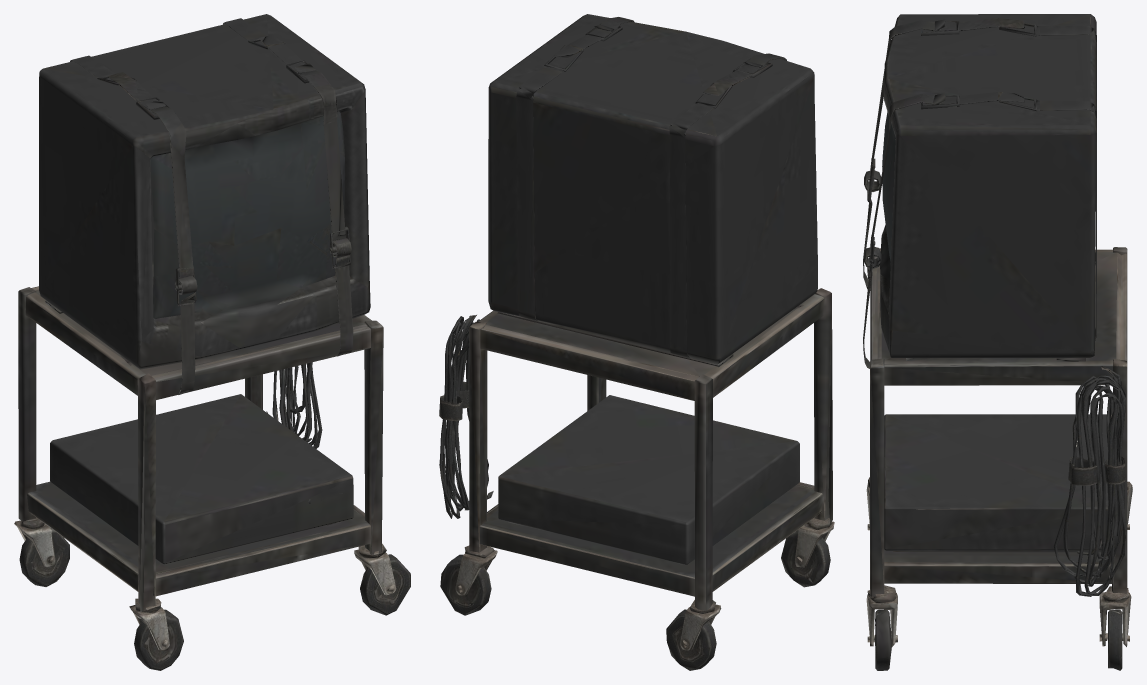
Rendered from p7-crt-tv-cart-t25.glb.
3 renders of one model, left to right at view 1: azimuth 30°, elevation 25°; view 2: azimuth 150°, elevation 25°; view 3: azimuth 270°, elevation 25°, orthographic.
Parts seen in each view (by area): view 1: p7-crt-tv-cart-t25; view 2: p7-crt-tv-cart-t25; view 3: p7-crt-tv-cart-t25.
Boxes of the visible parts, x1=… form: p7-crt-tv-cart-t25: x1=14, y1=14, x2=410, y2=670; p7-crt-tv-cart-t25: x1=439, y1=14, x2=834, y2=670; p7-crt-tv-cart-t25: x1=863, y1=14, x2=1132, y2=670.
Bounding box in the file's own units: 0.715 × 1.3 × 0.58.
Materials: 1 (1 with a texture image).
